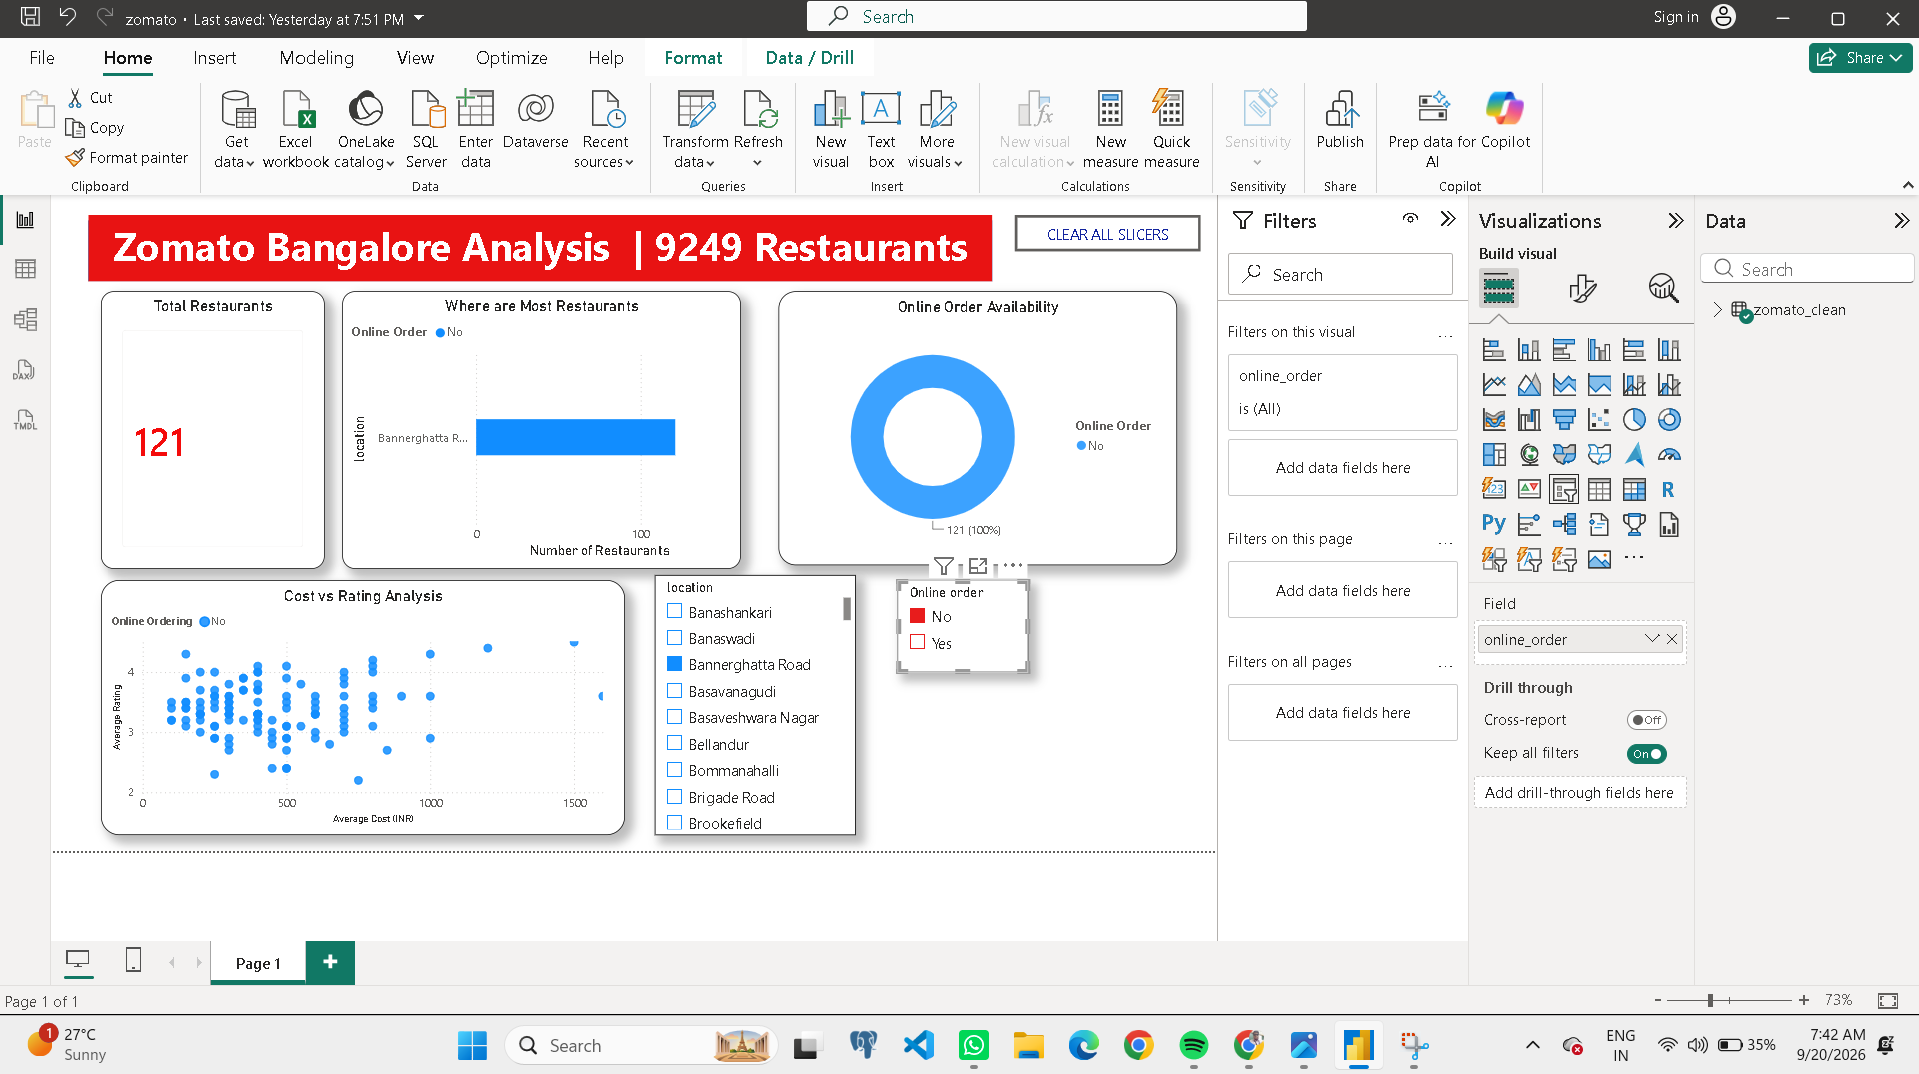

This screenshot's page, from the dashboard's own definition file:
{"tool":"powerbi","page":{"name":"Page 1","canvas":[1280,720],"ordinal":0},"visuals":[{"type":"cardVisual","title":"Total Restaurants","fields":{"Data":["CountNonNull(zomato_clean.name)"]},"box":[54.9,105.7,245.6,304.6],"z":0},{"type":"barChart","title":"Where are Most Restaurants","fields":{"Category":["zomato_clean.location"],"Y":["CountNonNull(zomato_clean.name)"],"Series":["zomato_clean.online_order"]},"box":[319.7,105.7,437.7,304.6],"z":1000},{"type":"donutChart","title":"Online Order Availability","fields":{"Category":["zomato_clean.online_order"],"Y":["CountNonNull(zomato_clean.name)"]},"box":[798.6,105.7,437.7,300.5],"z":2000},{"type":"scatterChart","title":"Cost vs Rating Analysis","fields":{"X":["Avg(zomato_clean.cost)"],"Y":["Avg(zomato_clean.rate)"],"Category":["zomato_clean.name"],"Series":["zomato_clean.online_order"]},"box":[54.9,422.6,575,279.9],"z":3000},{"type":"slicer","fields":{"Values":["zomato_clean.location"]},"box":[662.8,417.2,220.9,285.4],"z":4000},{"type":"actionButton","box":[1058.6,21.4,204.3,40],"z":5000},{"type":"slicer","fields":{"Values":["zomato_clean.online_order"]},"box":[929,422.6,144.1,101.5],"z":6000},{"type":"shape","title":"z","box":[41.2,4.1,992.1,90.6],"z":7000},{"type":"textbox","box":[41.2,22,992.1,72.7],"z":8000}]}

Visuals, with their boxes on the page's 1280x720 design canvas (x1, y1, x2, y2). These are canvas units, not pixel positions in the 1919x1074 screenshot, which may show the page scaled, cropped or inside an application window:
"Total Restaurants" cardVisual: <bbox>55, 106, 300, 410</bbox>
"Where are Most Restaurants" barChart: <bbox>320, 106, 757, 410</bbox>
"Online Order Availability" donutChart: <bbox>799, 106, 1236, 406</bbox>
"Cost vs Rating Analysis" scatterChart: <bbox>55, 423, 630, 702</bbox>
slicer - zomato_clean.location: <bbox>663, 417, 884, 703</bbox>
actionButton: <bbox>1059, 21, 1263, 61</bbox>
slicer - zomato_clean.online_order: <bbox>929, 423, 1073, 524</bbox>
"z" shape: <bbox>41, 4, 1033, 95</bbox>
textbox: <bbox>41, 22, 1033, 95</bbox>
